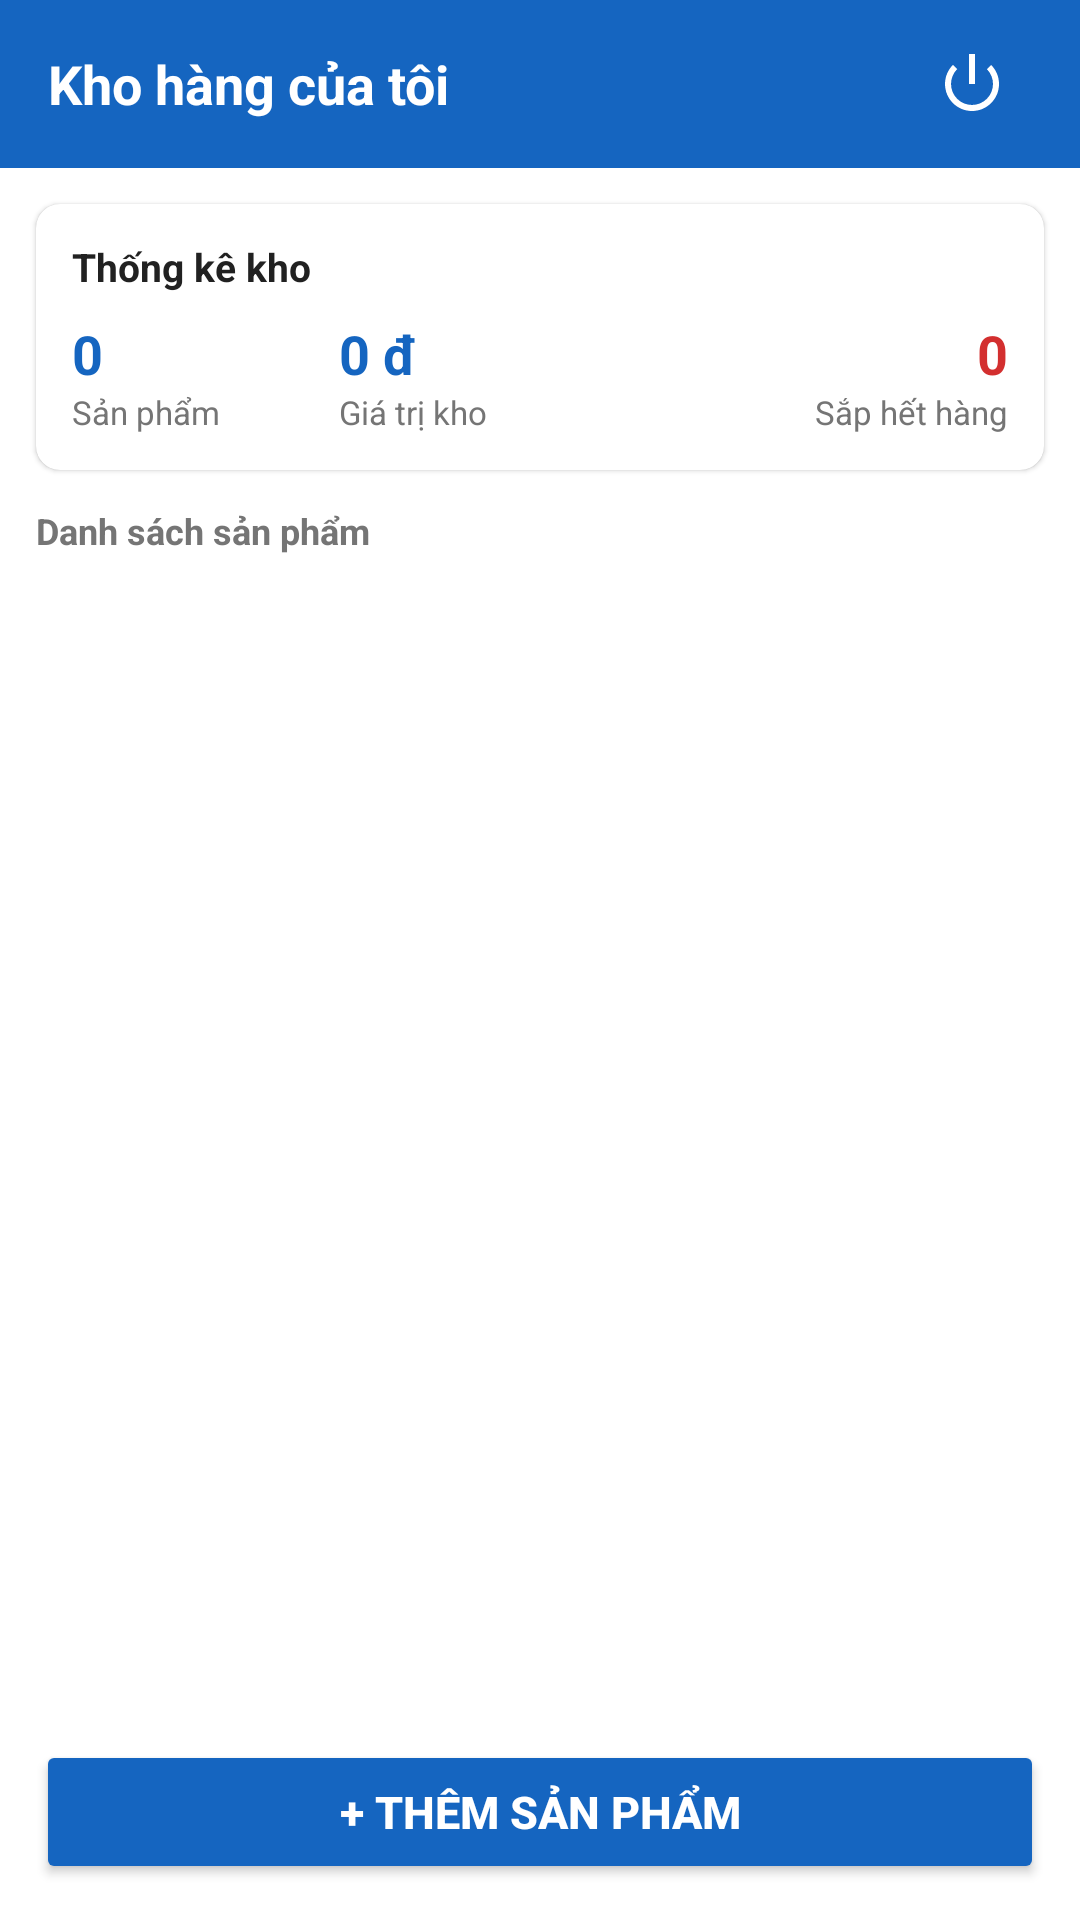

Icons on this 1080 x 1920 Android screen, each with its box as (x1, y1, x2, y2):
Đăng xuất: (945, 54, 999, 111)
